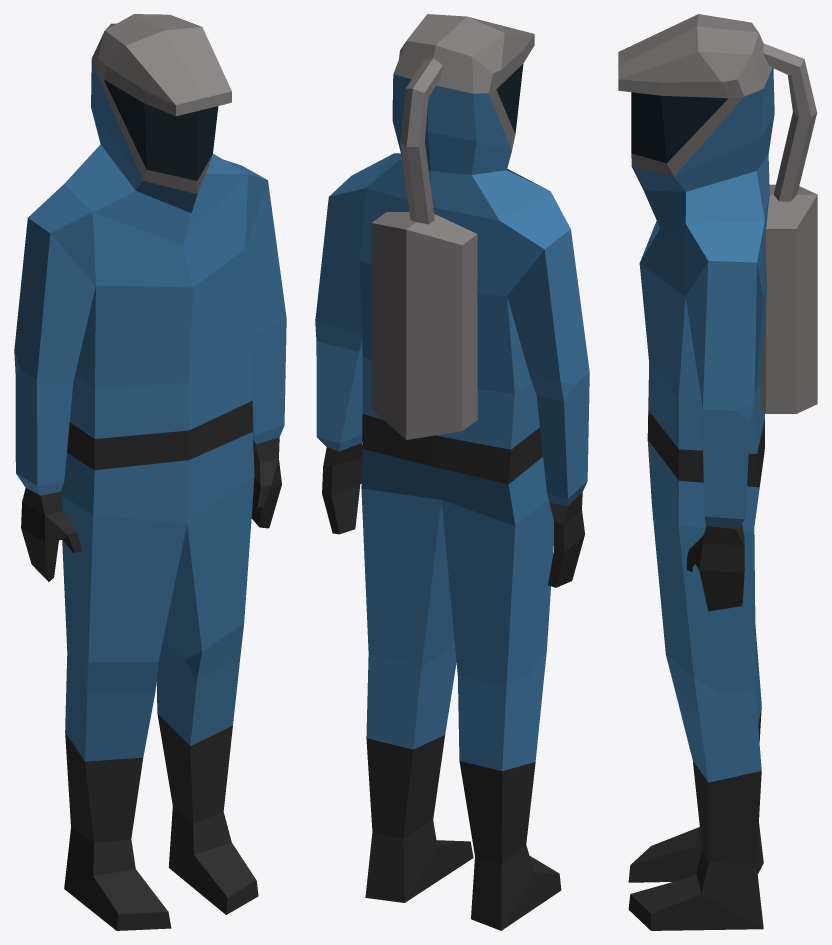
The model's file is woman-hazard.glb.
The picture shows the model from 3 angles, left to right: view 1: azimuth 30°, elevation 25°; view 2: azimuth 150°, elevation 25°; view 3: azimuth 270°, elevation 25°; orthographic projection.
Parts seen in each view (by area): view 1: woman-hazard; view 2: woman-hazard; view 3: woman-hazard.
Boxes of the visible parts, x1,y1,x2,y2 form: woman-hazard: (14,14,286,930); woman-hazard: (315,14,589,930); woman-hazard: (618,14,817,930).
Size of the model in its own units: 0.5505 by 1.82 by 0.3772.
Materials: 1 (1 with a texture image).
